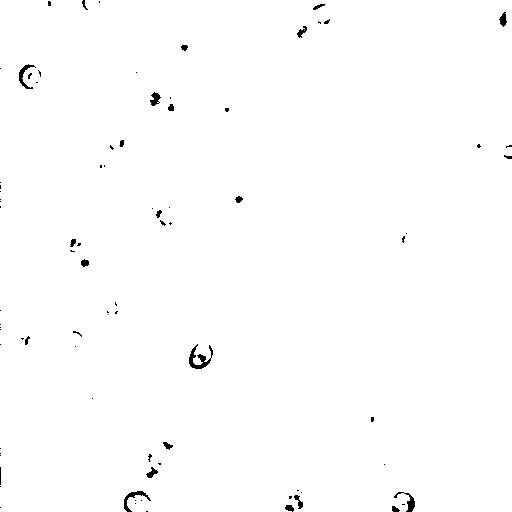micro-algae: (79, 84, 176, 178), (357, 95, 413, 152), (58, 227, 114, 280), (460, 4, 511, 59), (194, 422, 246, 472), (463, 461, 512, 512), (36, 375, 84, 419), (150, 80, 192, 124), (128, 403, 172, 444), (283, 10, 324, 49), (195, 292, 231, 335), (147, 197, 187, 233), (90, 154, 128, 190), (274, 435, 310, 473), (347, 405, 386, 434), (96, 125, 131, 157), (95, 292, 128, 324), (274, 486, 313, 512), (377, 449, 408, 480), (300, 322, 328, 356), (195, 455, 226, 485), (488, 0, 512, 35), (461, 131, 491, 159), (310, 357, 341, 384), (188, 341, 215, 371), (122, 489, 154, 512), (17, 64, 44, 91), (120, 51, 147, 78), (90, 382, 116, 410), (157, 428, 183, 455), (14, 328, 39, 356), (215, 96, 241, 122), (71, 249, 98, 274), (390, 490, 418, 512), (399, 228, 423, 253), (311, 2, 335, 26), (150, 450, 175, 473), (172, 36, 195, 60), (261, 95, 285, 118), (65, 229, 87, 254), (62, 330, 85, 353), (140, 465, 165, 484), (290, 0, 324, 12), (35, 0, 56, 17), (229, 194, 249, 209), (373, 0, 410, 8), (81, 0, 102, 13), (446, 79, 461, 96), (502, 143, 512, 162)
